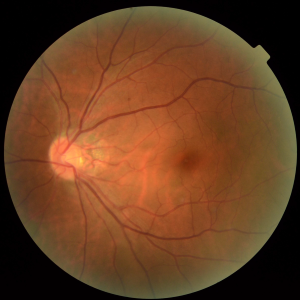healthy_eye: (29, 93, 250, 214)
